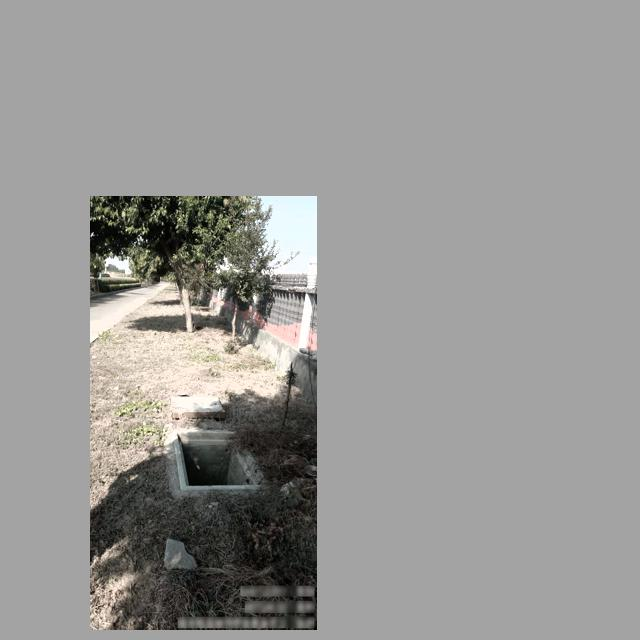lose: (173, 429, 271, 491)
